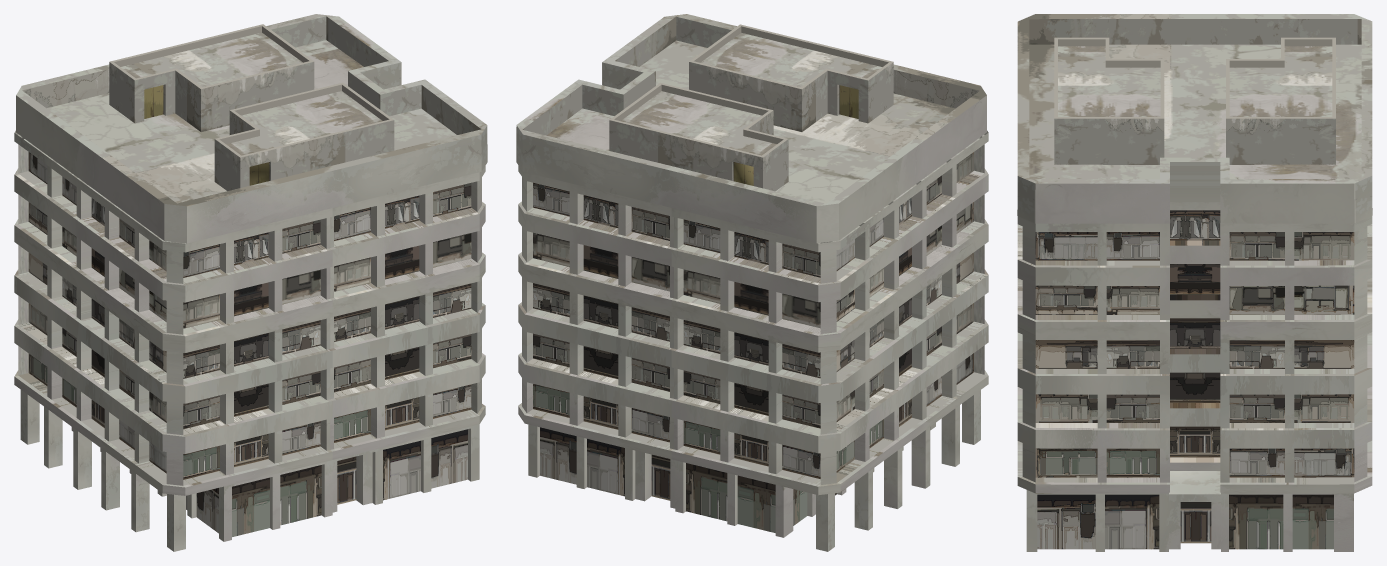
3 renders of one model, left to right at view 1: azimuth 30°, elevation 25°; view 2: azimuth 150°, elevation 25°; view 3: azimuth 270°, elevation 25°, orthographic. The views are drawn at different scales.
Visible parts, largest first — view 1: polySurface3488_concrete_02.1_0, 1_floor_window, 2_floor_window, 5_floor_window, 3_floor_window, 4_floor_window, 6_floor_window; view 2: polySurface3488_concrete_02.1_0, 2_floor_window, 5_floor_window, 1_floor_window, 3_floor_window, 4_floor_window, 6_floor_window; view 3: polySurface3488_concrete_02.1_0, 1_floor_window, 5_floor_window, 2_floor_window, 3_floor_window, 4_floor_window, 6_floor_window.
Part boxes in pixels (bbox=[...]): polySurface3488_concrete_02.1_0: bbox=[16, 14, 487, 243]; 1_floor_window: bbox=[14, 376, 485, 551]; 2_floor_window: bbox=[14, 326, 485, 487]; 5_floor_window: bbox=[14, 175, 485, 336]; 3_floor_window: bbox=[14, 242, 485, 436]; 4_floor_window: bbox=[14, 225, 485, 386]; 6_floor_window: bbox=[14, 130, 485, 285]; polySurface3488_concrete_02.1_0: bbox=[516, 14, 986, 243]; 2_floor_window: bbox=[518, 325, 988, 486]; 5_floor_window: bbox=[518, 174, 988, 335]; 1_floor_window: bbox=[518, 376, 988, 551]; 3_floor_window: bbox=[518, 241, 988, 436]; 4_floor_window: bbox=[518, 225, 988, 385]; 6_floor_window: bbox=[518, 130, 988, 285]; polySurface3488_concrete_02.1_0: bbox=[1017, 14, 1372, 223]; 1_floor_window: bbox=[1017, 462, 1372, 551]; 5_floor_window: bbox=[1017, 245, 1372, 321]; 2_floor_window: bbox=[1017, 408, 1372, 484]; 3_floor_window: bbox=[1017, 354, 1372, 430]; 4_floor_window: bbox=[1017, 300, 1372, 375]; 6_floor_window: bbox=[1017, 202, 1372, 267].
Bounding box in the file's own units: 163 × 176 × 143.
Materials: 11 (10 with a texture image).
